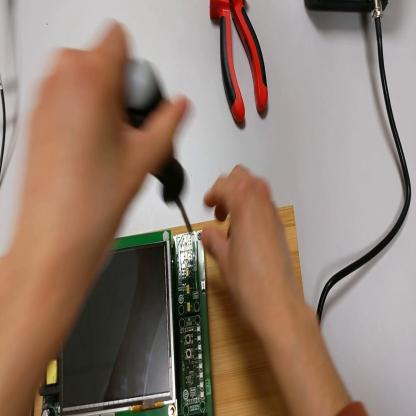hand: (15, 26, 191, 304), (201, 167, 301, 332)
low voltage board: (42, 229, 216, 416)
pliers: (210, 1, 269, 128)
screwdriver-: (126, 48, 194, 235)
welder station: (306, 1, 389, 18)
working area: (1, 205, 304, 416)
